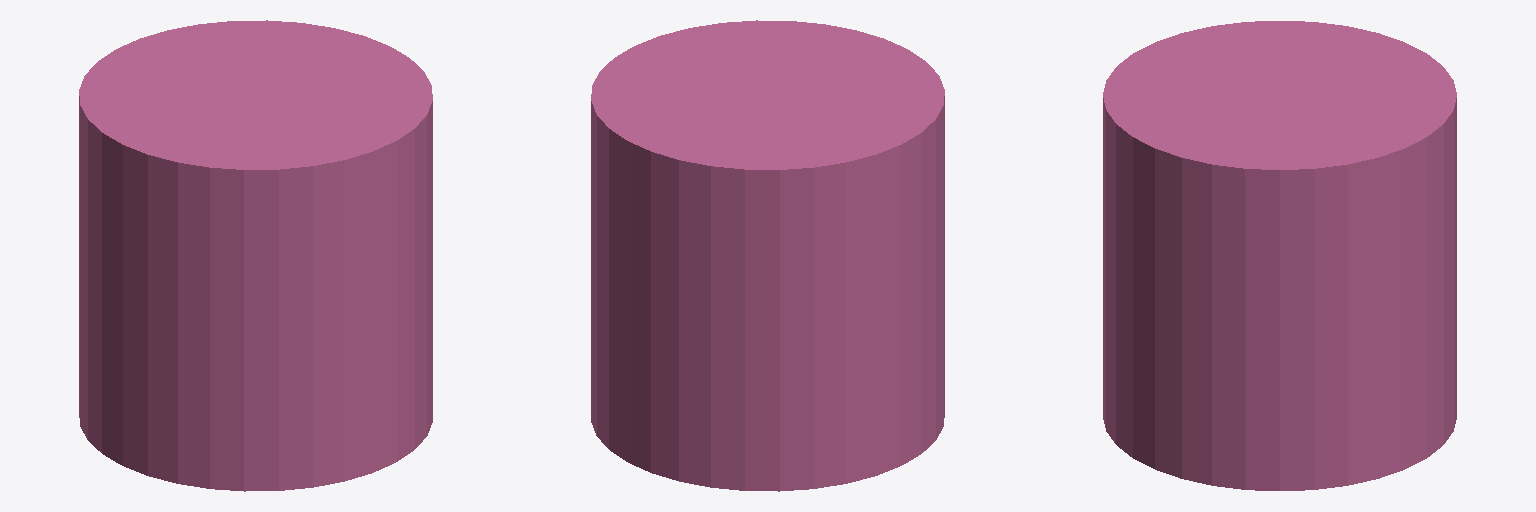
robot.urdf — rocap_body:
<?xml version="1.0" ?>
<!-- =================================================================================== -->
<!-- |    This document was autogenerated by xacro from rocap_body.xacro.urdf          | -->
<!-- |    EDITING THIS FILE BY HAND IS NOT RECOMMENDED                                 | -->
<!-- =================================================================================== -->
<robot name="rocap_body">
  <link name="base_link"/>
  <link name="rocap_body">
    <visual>
      <geometry>
        <mesh filename="file://[local-path]/ros2_ws/install/gazebo_ros2_control_demos/share/gazebo_ros2_control_demos/urdf/rocap_body/mesh/RoCaP_centre_simple.stl" scale="0.001 0.001 0.001"/>
      </geometry>
    </visual>
    <inertial>
      <mass value="0.001"/>
      <inertia ixx="1.0" ixy="0.0" ixz="0.0" iyy="1.0" iyz="0.0" izz="1.0"/>
    </inertial>
    <collision>
      <geometry>
        <box size="0.5 0.5 0.5"/>
      </geometry>
      <origin rpy="0 0 0" xyz="0 0 0.25"/>
    </collision>
  </link>
  <joint name="rocap_body_j" type="fixed">
    <origin rpy="0 0 0" xyz="0 0 0"/>
    <parent link="base_link"/>
    <child link="rocap_body"/>
  </joint>
  <link name="arm_front_rotation_link"/>
  <joint name="rocap_body_to_arm_front_rotation_link" type="fixed">
    <origin rpy="0 0 0.0" xyz="0 0 0"/>
    <parent link="rocap_body"/>
    <child link="arm_front_rotation_link"/>
  </joint>
  <link name="arm_front_long_arm_long_arm">
    <visual>
      <geometry>
        <mesh filename="file://[local-path]/ros2_ws/install/gazebo_ros2_control_demos/share/gazebo_ros2_control_demos/urdf/rocap_body/mesh/Bras_long_simple.stl" scale="0.001 0.001 0.001"/>
      </geometry>
    </visual>
    <inertial>
      <mass value="0.001"/>
      <inertia ixx="1.0" ixy="0.0" ixz="0.0" iyy="1.0" iyz="0.0" izz="1.0"/>
    </inertial>
  </link>
  <link name="arm_front_long_arm_long_arm_pulley">
    <inertial>
      <mass value="0.001"/>
      <inertia ixx="1.0" ixy="0.0" ixz="0.0" iyy="1.0" iyz="0.0" izz="1.0"/>
    </inertial>
  </link>
  <joint name="arm_front_rotation_link_to_arm_front_long_arm_long_arm" type="fixed">
    <origin rpy="0 0 0" xyz="0.24235 0 0.09507"/>
    <parent link="arm_front_rotation_link"/>
    <child link="arm_front_long_arm_long_arm"/>
  </joint>
  <joint name="arm_front_long_arm_long_arm_to_arm_front_long_arm_long_arm_pulley" type="fixed">
    <origin rpy="0 0 0" xyz="0.09507 0 0.02424"/>
    <parent link="arm_front_long_arm_long_arm"/>
    <child link="arm_front_long_arm_long_arm_pulley"/>
  </joint>
  <link name="arm_front_short_arm_1_rocap_short_arm">
    <visual>
      <geometry>
        <mesh filename="file://[local-path]/ros2_ws/install/gazebo_ros2_control_demos/share/gazebo_ros2_control_demos/urdf/rocap_body/mesh/Bras_court_simple.stl" scale="0.001 0.001 0.001"/>
      </geometry>
    </visual>
    <inertial>
      <mass value="0.001"/>
      <inertia ixx="1.0" ixy="0.0" ixz="0.0" iyy="1.0" iyz="0.0" izz="1.0"/>
    </inertial>
  </link>
  <joint name="arm_front_rotation_link_to_arm_front_short_arm_1_rocap_short_arm" type="fixed">
    <origin rpy="0 0 0" xyz=" 0.24235 0.1520 0.26235"/>
    <parent link="arm_front_rotation_link"/>
    <child link="arm_front_short_arm_1_rocap_short_arm"/>
  </joint>
  <link name="arm_front_short_arm_2_rocap_short_arm">
    <visual>
      <geometry>
        <mesh filename="file://[local-path]/ros2_ws/install/gazebo_ros2_control_demos/share/gazebo_ros2_control_demos/urdf/rocap_body/mesh/Bras_court_simple.stl" scale="0.001 0.001 0.001"/>
      </geometry>
    </visual>
    <inertial>
      <mass value="0.001"/>
      <inertia ixx="1.0" ixy="0.0" ixz="0.0" iyy="1.0" iyz="0.0" izz="1.0"/>
    </inertial>
  </link>
  <joint name="arm_front_rotation_link_to_arm_front_short_arm_2_rocap_short_arm" type="fixed">
    <origin rpy="0 0 0" xyz=" 0.24235 -0.1520 0.26235"/>
    <parent link="arm_front_rotation_link"/>
    <child link="arm_front_short_arm_2_rocap_short_arm"/>
  </joint>
  <link name="arm_left_rotation_link"/>
  <joint name="rocap_body_to_arm_left_rotation_link" type="fixed">
    <origin rpy="0 0 1.5707963267948966" xyz="0 0 0"/>
    <parent link="rocap_body"/>
    <child link="arm_left_rotation_link"/>
  </joint>
  <link name="arm_left_long_arm_long_arm">
    <visual>
      <geometry>
        <mesh filename="file://[local-path]/ros2_ws/install/gazebo_ros2_control_demos/share/gazebo_ros2_control_demos/urdf/rocap_body/mesh/Bras_long_simple.stl" scale="0.001 0.001 0.001"/>
      </geometry>
    </visual>
    <inertial>
      <mass value="0.001"/>
      <inertia ixx="1.0" ixy="0.0" ixz="0.0" iyy="1.0" iyz="0.0" izz="1.0"/>
    </inertial>
  </link>
  <link name="arm_left_long_arm_long_arm_pulley">
    <inertial>
      <mass value="0.001"/>
      <inertia ixx="1.0" ixy="0.0" ixz="0.0" iyy="1.0" iyz="0.0" izz="1.0"/>
    </inertial>
  </link>
  <joint name="arm_left_rotation_link_to_arm_left_long_arm_long_arm" type="fixed">
    <origin rpy="0 0 0" xyz="0.24235 0 0.09507"/>
    <parent link="arm_left_rotation_link"/>
    <child link="arm_left_long_arm_long_arm"/>
  </joint>
  <joint name="arm_left_long_arm_long_arm_to_arm_left_long_arm_long_arm_pulley" type="fixed">
    <origin rpy="0 0 0" xyz="0.09507 0 0.02424"/>
    <parent link="arm_left_long_arm_long_arm"/>
    <child link="arm_left_long_arm_long_arm_pulley"/>
  </joint>
  <link name="arm_left_short_arm_1_rocap_short_arm">
    <visual>
      <geometry>
        <mesh filename="file://[local-path]/ros2_ws/install/gazebo_ros2_control_demos/share/gazebo_ros2_control_demos/urdf/rocap_body/mesh/Bras_court_simple.stl" scale="0.001 0.001 0.001"/>
      </geometry>
    </visual>
    <inertial>
      <mass value="0.001"/>
      <inertia ixx="1.0" ixy="0.0" ixz="0.0" iyy="1.0" iyz="0.0" izz="1.0"/>
    </inertial>
  </link>
  <joint name="arm_left_rotation_link_to_arm_left_short_arm_1_rocap_short_arm" type="fixed">
    <origin rpy="0 0 0" xyz=" 0.24235 0.1520 0.26235"/>
    <parent link="arm_left_rotation_link"/>
    <child link="arm_left_short_arm_1_rocap_short_arm"/>
  </joint>
  <link name="arm_left_short_arm_2_rocap_short_arm">
    <visual>
      <geometry>
        <mesh filename="file://[local-path]/ros2_ws/install/gazebo_ros2_control_demos/share/gazebo_ros2_control_demos/urdf/rocap_body/mesh/Bras_court_simple.stl" scale="0.001 0.001 0.001"/>
      </geometry>
    </visual>
    <inertial>
      <mass value="0.001"/>
      <inertia ixx="1.0" ixy="0.0" ixz="0.0" iyy="1.0" iyz="0.0" izz="1.0"/>
    </inertial>
  </link>
  <joint name="arm_left_rotation_link_to_arm_left_short_arm_2_rocap_short_arm" type="fixed">
    <origin rpy="0 0 0" xyz=" 0.24235 -0.1520 0.26235"/>
    <parent link="arm_left_rotation_link"/>
    <child link="arm_left_short_arm_2_rocap_short_arm"/>
  </joint>
  <link name="arm_back_rotation_link"/>
  <joint name="rocap_body_to_arm_back_rotation_link" type="fixed">
    <origin rpy="0 0 3.141592653589793" xyz="0 0 0"/>
    <parent link="rocap_body"/>
    <child link="arm_back_rotation_link"/>
  </joint>
  <link name="arm_back_long_arm_long_arm">
    <visual>
      <geometry>
        <mesh filename="file://[local-path]/ros2_ws/install/gazebo_ros2_control_demos/share/gazebo_ros2_control_demos/urdf/rocap_body/mesh/Bras_long_simple.stl" scale="0.001 0.001 0.001"/>
      </geometry>
    </visual>
    <inertial>
      <mass value="0.001"/>
      <inertia ixx="1.0" ixy="0.0" ixz="0.0" iyy="1.0" iyz="0.0" izz="1.0"/>
    </inertial>
  </link>
  <link name="arm_back_long_arm_long_arm_pulley">
    <inertial>
      <mass value="0.001"/>
      <inertia ixx="1.0" ixy="0.0" ixz="0.0" iyy="1.0" iyz="0.0" izz="1.0"/>
    </inertial>
  </link>
  <joint name="arm_back_rotation_link_to_arm_back_long_arm_long_arm" type="fixed">
    <origin rpy="0 0 0" xyz="0.24235 0 0.09507"/>
    <parent link="arm_back_rotation_link"/>
    <child link="arm_back_long_arm_long_arm"/>
  </joint>
  <joint name="arm_back_long_arm_long_arm_to_arm_back_long_arm_long_arm_pulley" type="fixed">
    <origin rpy="0 0 0" xyz="0.09507 0 0.02424"/>
    <parent link="arm_back_long_arm_long_arm"/>
    <child link="arm_back_long_arm_long_arm_pulley"/>
  </joint>
  <link name="arm_back_short_arm_1_rocap_short_arm">
    <visual>
      <geometry>
        <mesh filename="file://[local-path]/ros2_ws/install/gazebo_ros2_control_demos/share/gazebo_ros2_control_demos/urdf/rocap_body/mesh/Bras_court_simple.stl" scale="0.001 0.001 0.001"/>
      </geometry>
    </visual>
    <inertial>
      <mass value="0.001"/>
      <inertia ixx="1.0" ixy="0.0" ixz="0.0" iyy="1.0" iyz="0.0" izz="1.0"/>
    </inertial>
  </link>
  <joint name="arm_back_rotation_link_to_arm_back_short_arm_1_rocap_short_arm" type="fixed">
    <origin rpy="0 0 0" xyz=" 0.24235 0.1520 0.26235"/>
    <parent link="arm_back_rotation_link"/>
    <child link="arm_back_short_arm_1_rocap_short_arm"/>
  </joint>
  <link name="arm_back_short_arm_2_rocap_short_arm">
    <visual>
      <geometry>
        <mesh filename="file://[local-path]/ros2_ws/install/gazebo_ros2_control_demos/share/gazebo_ros2_control_demos/urdf/rocap_body/mesh/Bras_court_simple.stl" scale="0.001 0.001 0.001"/>
      </geometry>
    </visual>
    <inertial>
      <mass value="0.001"/>
      <inertia ixx="1.0" ixy="0.0" ixz="0.0" iyy="1.0" iyz="0.0" izz="1.0"/>
    </inertial>
  </link>
  <joint name="arm_back_rotation_link_to_arm_back_short_arm_2_rocap_short_arm" type="fixed">
    <origin rpy="0 0 0" xyz=" 0.24235 -0.1520 0.26235"/>
    <parent link="arm_back_rotation_link"/>
    <child link="arm_back_short_arm_2_rocap_short_arm"/>
  </joint>
  <link name="arm_right_rotation_link"/>
  <joint name="rocap_body_to_arm_right_rotation_link" type="fixed">
    <origin rpy="0 0 4.71238898038469" xyz="0 0 0"/>
    <parent link="rocap_body"/>
    <child link="arm_right_rotation_link"/>
  </joint>
  <link name="arm_right_long_arm_long_arm">
    <visual>
      <geometry>
        <mesh filename="file://[local-path]/ros2_ws/install/gazebo_ros2_control_demos/share/gazebo_ros2_control_demos/urdf/rocap_body/mesh/Bras_long_simple.stl" scale="0.001 0.001 0.001"/>
      </geometry>
    </visual>
    <inertial>
      <mass value="0.001"/>
      <inertia ixx="1.0" ixy="0.0" ixz="0.0" iyy="1.0" iyz="0.0" izz="1.0"/>
    </inertial>
  </link>
  <link name="arm_right_long_arm_long_arm_pulley">
    <inertial>
      <mass value="0.001"/>
      <inertia ixx="1.0" ixy="0.0" ixz="0.0" iyy="1.0" iyz="0.0" izz="1.0"/>
    </inertial>
  </link>
  <joint name="arm_right_rotation_link_to_arm_right_long_arm_long_arm" type="fixed">
    <origin rpy="0 0 0" xyz="0.24235 0 0.09507"/>
    <parent link="arm_right_rotation_link"/>
    <child link="arm_right_long_arm_long_arm"/>
  </joint>
  <joint name="arm_right_long_arm_long_arm_to_arm_right_long_arm_long_arm_pulley" type="fixed">
    <origin rpy="0 0 0" xyz="0.09507 0 0.02424"/>
    <parent link="arm_right_long_arm_long_arm"/>
    <child link="arm_right_long_arm_long_arm_pulley"/>
  </joint>
  <link name="arm_right_short_arm_1_rocap_short_arm">
    <visual>
      <geometry>
        <mesh filename="file://[local-path]/ros2_ws/install/gazebo_ros2_control_demos/share/gazebo_ros2_control_demos/urdf/rocap_body/mesh/Bras_court_simple.stl" scale="0.001 0.001 0.001"/>
      </geometry>
    </visual>
    <inertial>
      <mass value="0.001"/>
      <inertia ixx="1.0" ixy="0.0" ixz="0.0" iyy="1.0" iyz="0.0" izz="1.0"/>
    </inertial>
  </link>
  <joint name="arm_right_rotation_link_to_arm_right_short_arm_1_rocap_short_arm" type="fixed">
    <origin rpy="0 0 0" xyz=" 0.24235 0.1520 0.26235"/>
    <parent link="arm_right_rotation_link"/>
    <child link="arm_right_short_arm_1_rocap_short_arm"/>
  </joint>
  <link name="arm_right_short_arm_2_rocap_short_arm">
    <visual>
      <geometry>
        <mesh filename="file://[local-path]/ros2_ws/install/gazebo_ros2_control_demos/share/gazebo_ros2_control_demos/urdf/rocap_body/mesh/Bras_court_simple.stl" scale="0.001 0.001 0.001"/>
      </geometry>
    </visual>
    <inertial>
      <mass value="0.001"/>
      <inertia ixx="1.0" ixy="0.0" ixz="0.0" iyy="1.0" iyz="0.0" izz="1.0"/>
    </inertial>
  </link>
  <joint name="arm_right_rotation_link_to_arm_right_short_arm_2_rocap_short_arm" type="fixed">
    <origin rpy="0 0 0" xyz=" 0.24235 -0.1520 0.26235"/>
    <parent link="arm_right_rotation_link"/>
    <child link="arm_right_short_arm_2_rocap_short_arm"/>
  </joint>
  <link name="lidar_link">
    <visual>
      <geometry>
        <cylinder length="0.2" radius="0.1"/>
        <axis xyz="0 0 1"/>
      </geometry>
    </visual>
  </link>
  <joint name="lidar_j" type="fixed">
    <origin rpy="0 0 0" xyz="0 0 1"/>
    <parent link="rocap_body"/>
    <child link="lidar_link"/>
  </joint>
  <gazebo reference="lidar_link">
    <always_on>true</always_on>
    <update_rate>10.0</update_rate>
    <sensor name="sensor_ray" type="ray">
      <pose>0.0 0.0 0.0 0.0 0.0 0.0</pose>
      <ray>
        <scan>
          <horizontal>
            <samples>300</samples>
            <resolution>1.0</resolution>
            <min_angle>0</min_angle>
            <max_angle>6.283185307179586</max_angle>
          </horizontal>
          <vertical>
            <samples>100</samples>
            <resolution>1.0</resolution>
            <min_angle>-0.7853981633974483</min_angle>
            <max_angle>0.7853981633974483</max_angle>
          </vertical>
        </scan>
        <range>
          <min>0.05</min>
          <max>50.0</max>
        </range>
      </ray>
      <!-- Setup ros plugin -->
      <plugin filename="libgazebo_ros_ray_sensor.so" name="lidar_plugin">
        <gaussian_noise>0.1</gaussian_noise>
        <alwaysOn>true</alwaysOn>
        <ros>
          <!-- Configure namespace and remap to publish -->
          <namespace>/tray</namespace>
          <remapping>~/out:=point</remapping>
        </ros>
        <output_type>sensor_msgs/PointCloud2</output_type>
        <frame_name>lidar_link</frame_name>
      </plugin>
    </sensor>
  </gazebo>
  <!-- <gazebo reference="lidar_link">
  <sensor name="sensor_ray" type="ray">
      <topic_name>test_block_laser</topic_name>
      <pose>0.0 0.0 0.0 0.0 0.0 0.0</pose>
      <topic>test_block_laser</topic>
      <ray>
          <scan>
              <horizontal>
                  <samples>300</samples>
                  <resolution>1.0</resolution>
                  <min_angle>0</min_angle>
                  <max_angle>${2*pi}</max_angle>
              </horizontal>
              <vertical>
                  <samples>100</samples>
                  <resolution>1.0</resolution>
                  <min_angle>-${pi/4}</min_angle>
                  <max_angle>${pi/4}</max_angle>
              </vertical>
          </scan>
          <range>
              <min>0.05</min>
              <max>50.0</max>
          </range>
      </ray>
     
      <plugin name="lidar_plugin" filename="libgazebo_ros_ray_sensor.so">
          <gaussian_noise>0.1</gaussian_noise>
          <alwaysOn>true</alwaysOn>

          <ros>
    
            <namespace>/ray</namespace>
            <remapping>~/out:=pointcloud2</remapping>
          </ros>
          
          
          <output_type>sensor_msgs/PointCloud2</output_type>
          <frame_name>lidar_link</frame_name>
      </plugin>
      <always_on>true</always_on>
      <update_rate>10.0</update_rate>
  </sensor>
</gazebo> -->
</robot>

--- Render facts (derived) ---
The picture shows the robot from 3 angles, left to right: view 1: azimuth 30°, elevation 25°; view 2: azimuth 150°, elevation 25°; view 3: azimuth 270°, elevation 25°; orthographic projection.
Robot: rocap_body — 23 links, 22 joints (22 fixed); root link base_link; default pose: all joints at 0.
Links seen in each view (by area): view 1: lidar_link; view 2: lidar_link; view 3: lidar_link.
Link boxes in pixels (x1=…): lidar_link: x1=79, y1=20, x2=432, y2=491; lidar_link: x1=591, y1=20, x2=944, y2=491; lidar_link: x1=1103, y1=21, x2=1456, y2=490.
Bounding box of the posed robot: 0.2 × 0.2 × 0.2 m (x, y, z).
Geometry: only primitive shapes (box / cylinder / sphere) drawn; not drawn: 13 mesh visuals (reference in a form the renderer does not follow).